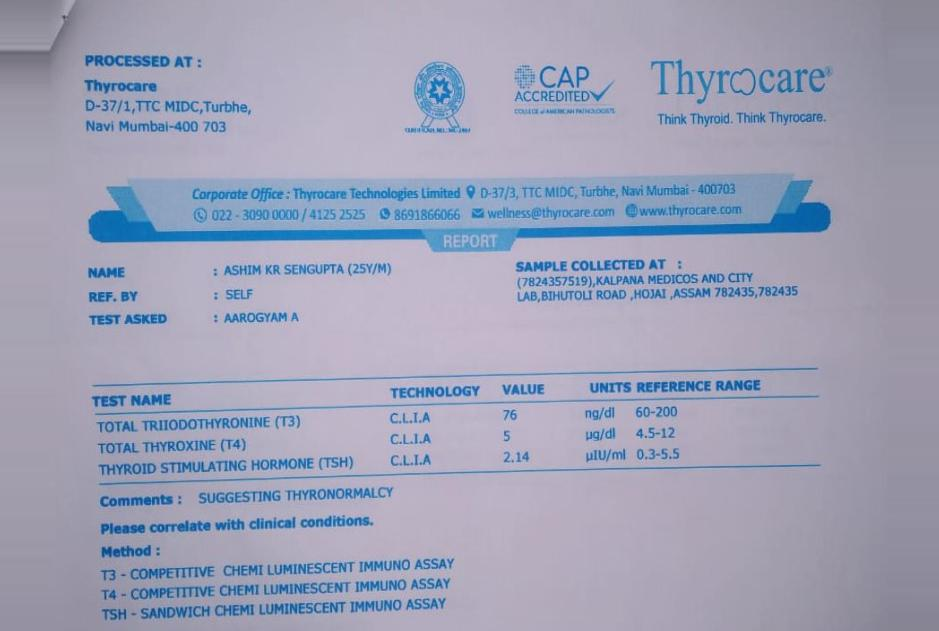Reference Range: (631, 399, 690, 469)
Test Name: (92, 408, 363, 483)
Units: (578, 399, 633, 469)
Value: (495, 401, 540, 472)
